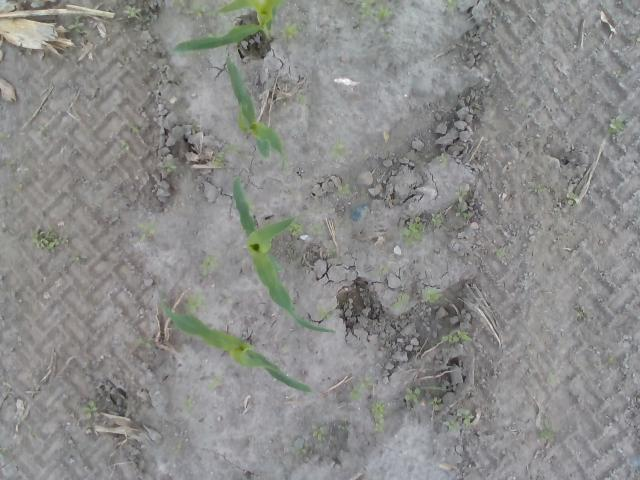Maize: (230, 174, 338, 336), (160, 298, 318, 394), (223, 56, 287, 160), (172, 0, 290, 56)
Weeds: (30, 224, 68, 253), (358, 0, 392, 24), (400, 215, 424, 248), (125, 6, 152, 32), (456, 184, 474, 220), (190, 0, 226, 17), (438, 328, 474, 344), (186, 290, 209, 314), (370, 399, 386, 433), (330, 136, 352, 160), (280, 20, 306, 40), (199, 255, 221, 278), (136, 220, 160, 241), (289, 436, 309, 458), (607, 113, 625, 137), (540, 415, 554, 441), (311, 423, 329, 442), (457, 406, 472, 428), (80, 400, 98, 418), (423, 286, 441, 304), (390, 292, 408, 310), (404, 386, 424, 402), (67, 14, 84, 32), (210, 151, 227, 168), (359, 370, 375, 388), (136, 336, 154, 350), (374, 262, 392, 276), (126, 119, 142, 134), (494, 244, 512, 257), (222, 142, 241, 154), (207, 376, 223, 390), (566, 192, 582, 206), (36, 126, 48, 144), (160, 163, 177, 174), (515, 96, 529, 109), (290, 223, 304, 236), (350, 387, 363, 400), (431, 208, 441, 224), (316, 305, 328, 318), (358, 192, 369, 206), (0, 132, 12, 144), (528, 184, 544, 193), (608, 353, 618, 367), (437, 152, 448, 164), (446, 420, 458, 431), (183, 399, 194, 410), (142, 66, 152, 78), (338, 184, 350, 194), (338, 424, 349, 434), (612, 69, 624, 78), (447, 0, 458, 9), (175, 438, 184, 449), (295, 95, 304, 105), (311, 224, 321, 233), (383, 32, 393, 40), (576, 309, 584, 319), (174, 0, 184, 7), (431, 398, 442, 404), (328, 248, 336, 256), (72, 255, 81, 262)
